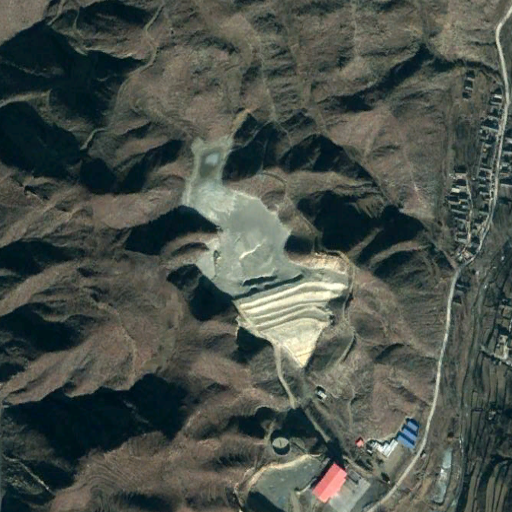tp: (181, 130, 346, 364)
